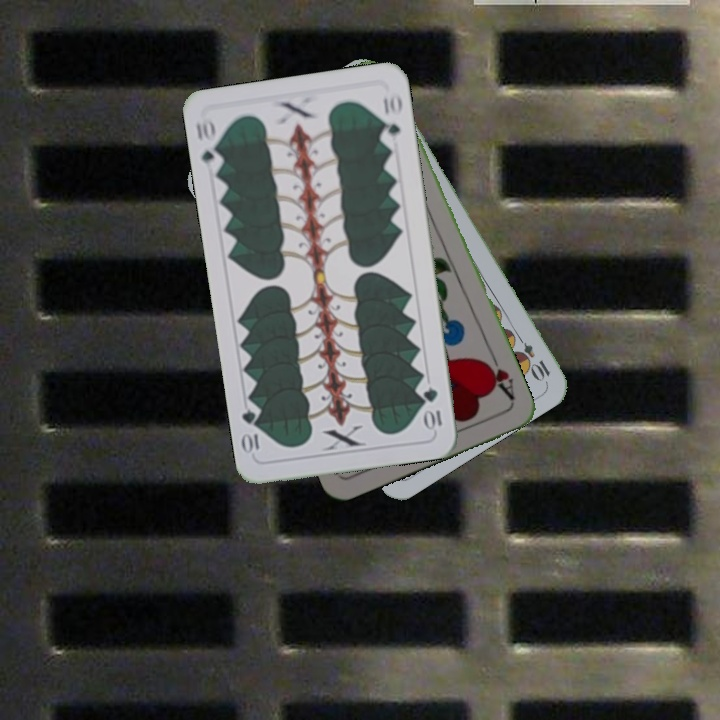E10: (510, 329, 553, 383)
G10: (192, 113, 225, 173), (419, 384, 445, 433)
HA: (479, 349, 517, 403)
